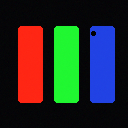0 point: (91, 31, 95, 35)
